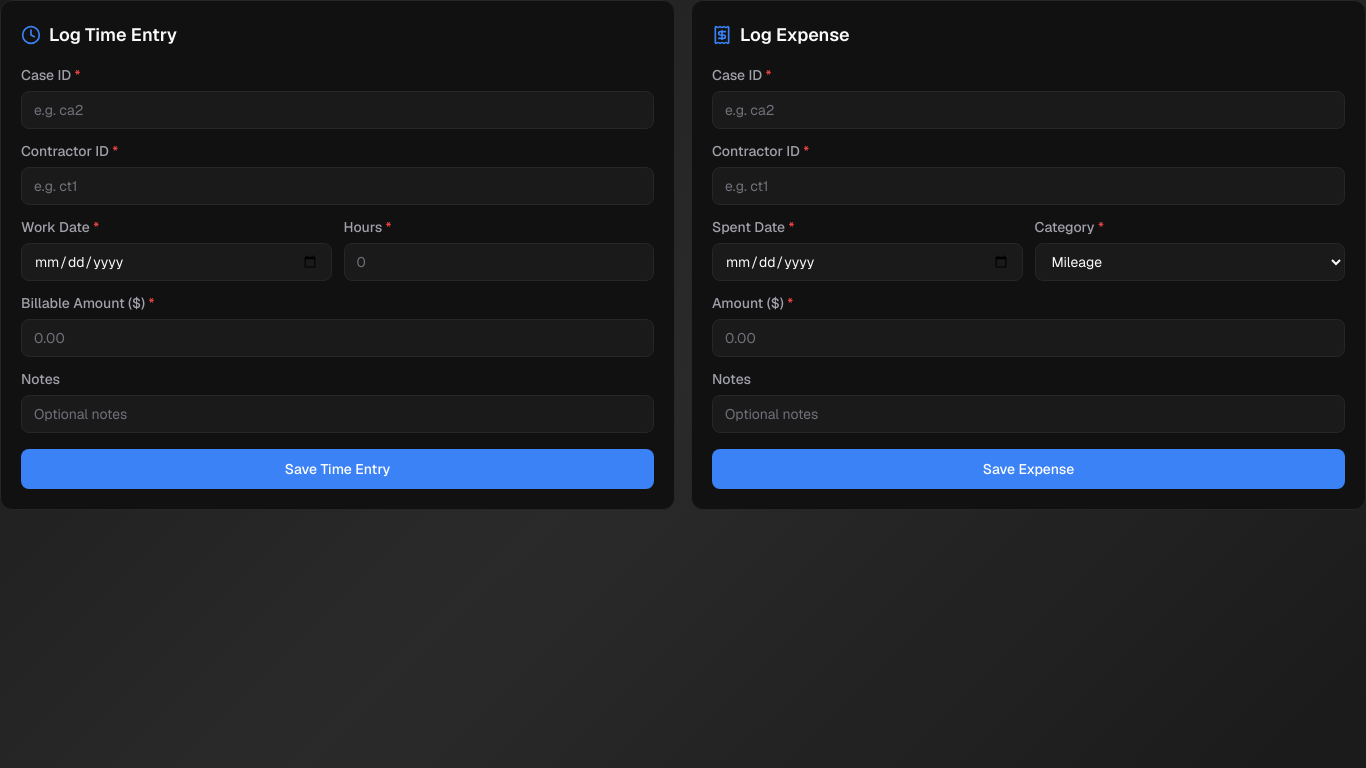
Test: TeamEntryForms › shows success message on successful time entry submission
Type "ca1" into the field with id "te-caseId" at (338, 110), box [21, 91, 654, 129]
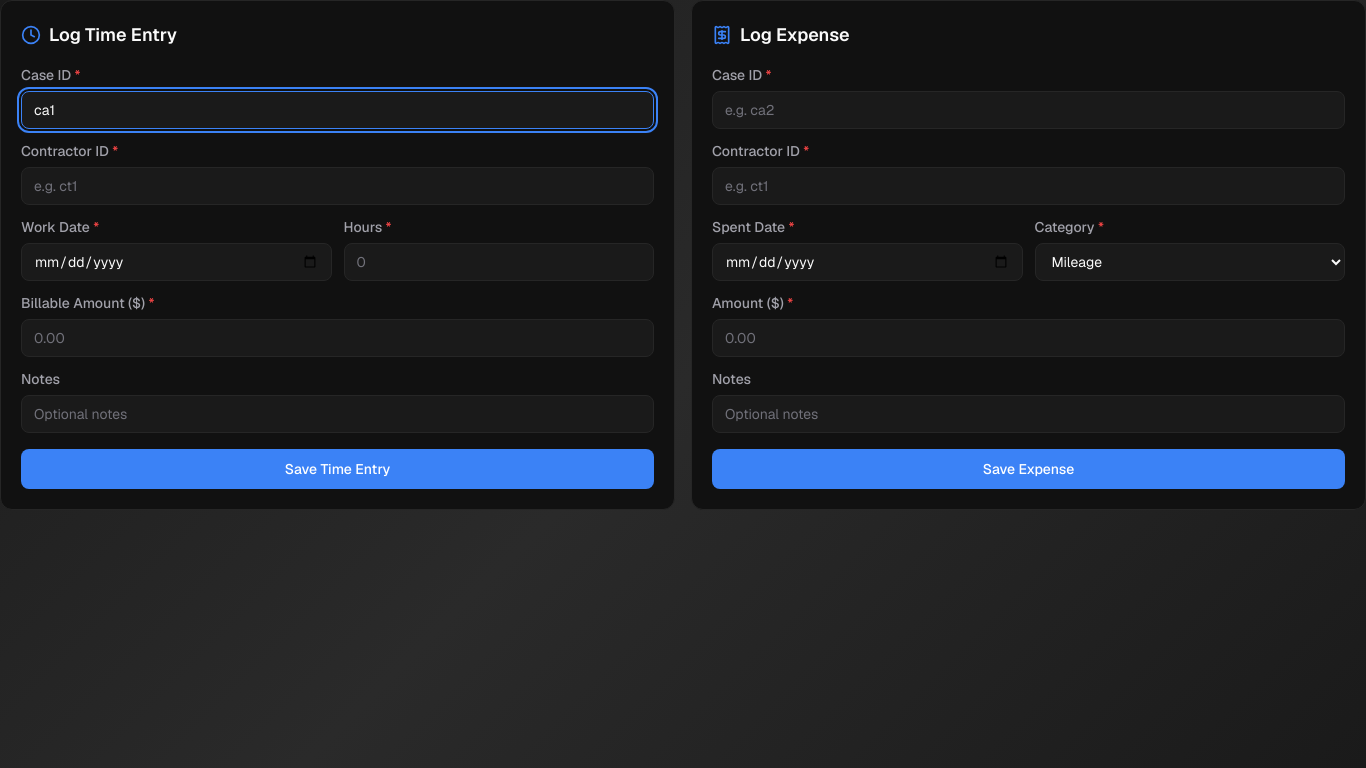
Type "ct1" into the field with id "te-contractorId" at (338, 186), box [21, 167, 654, 205]
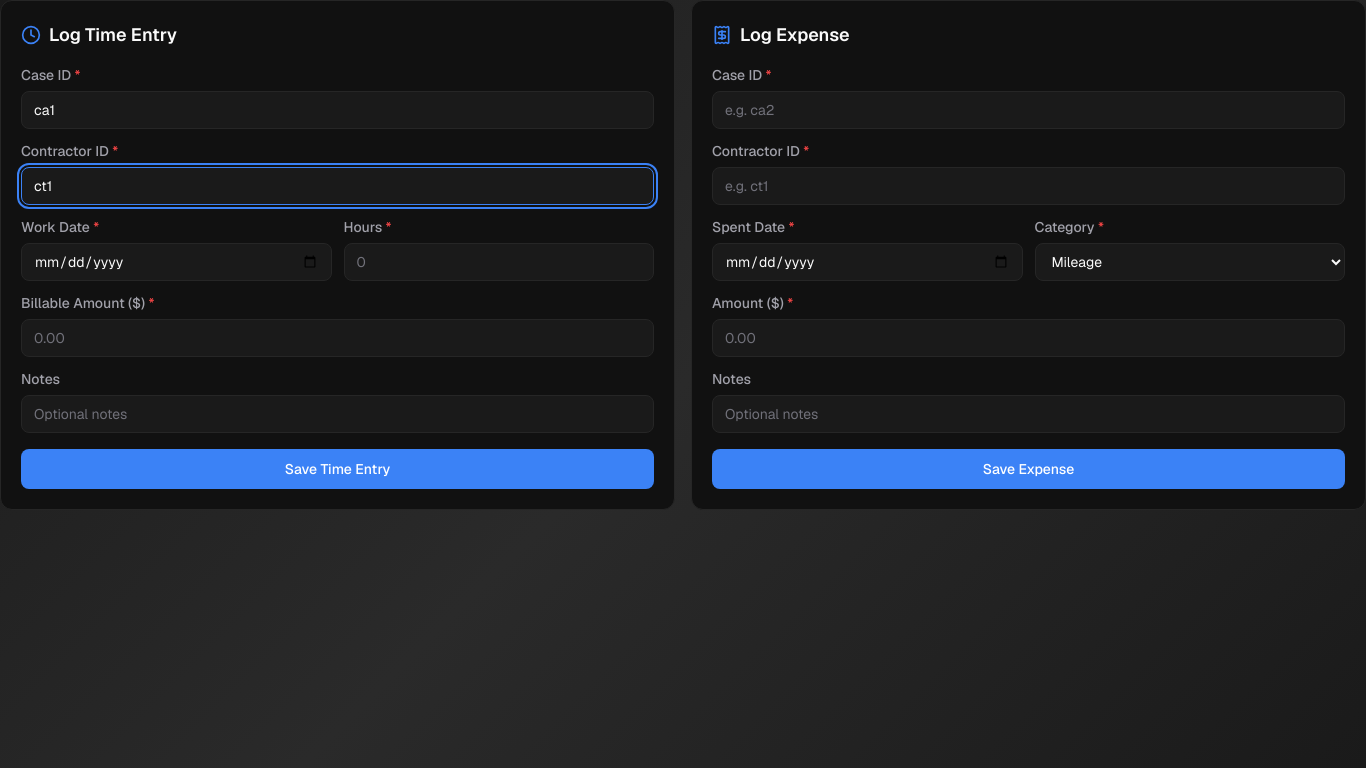
Type "2024-01-15" into the date field labelled "Work Date *" at (176, 262), box [21, 243, 332, 281]
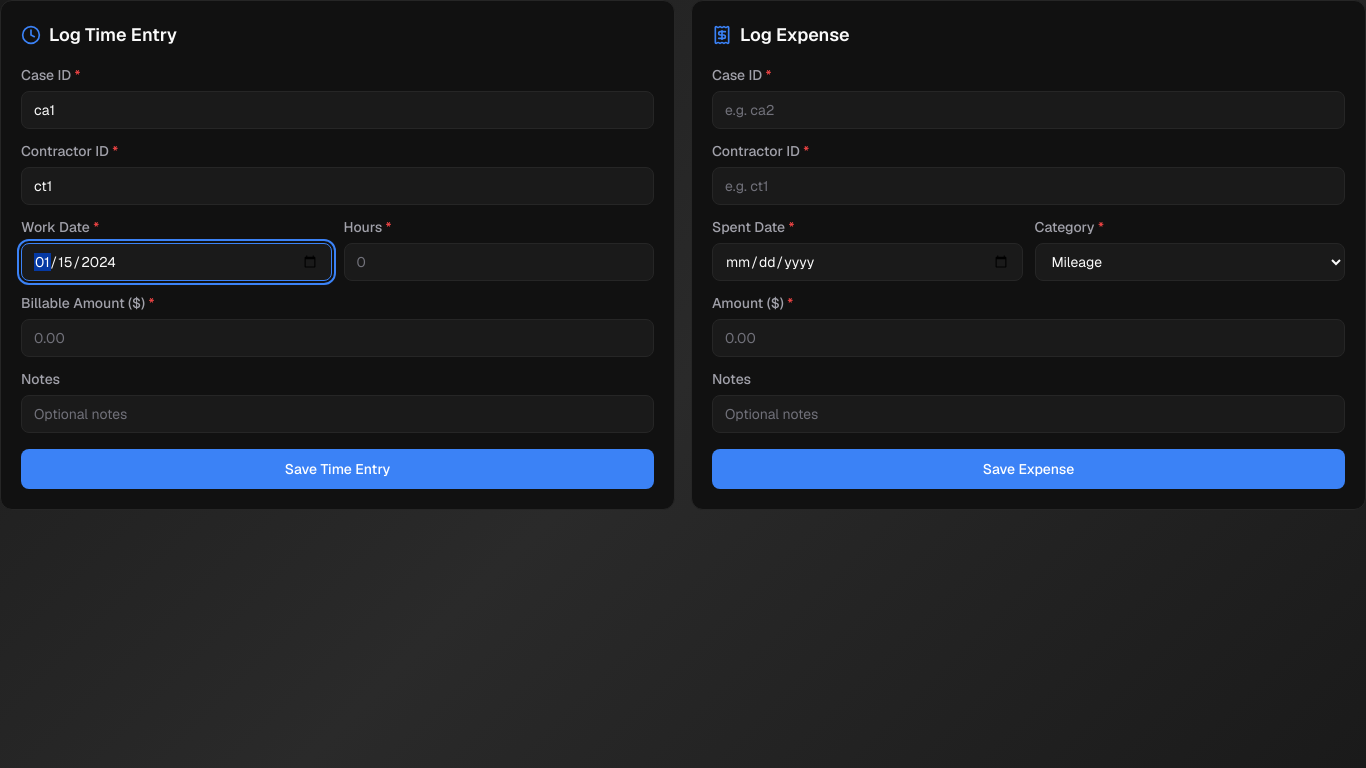
Type "2" into the number field with id "te-hours" at (499, 262), box [344, 243, 654, 281]
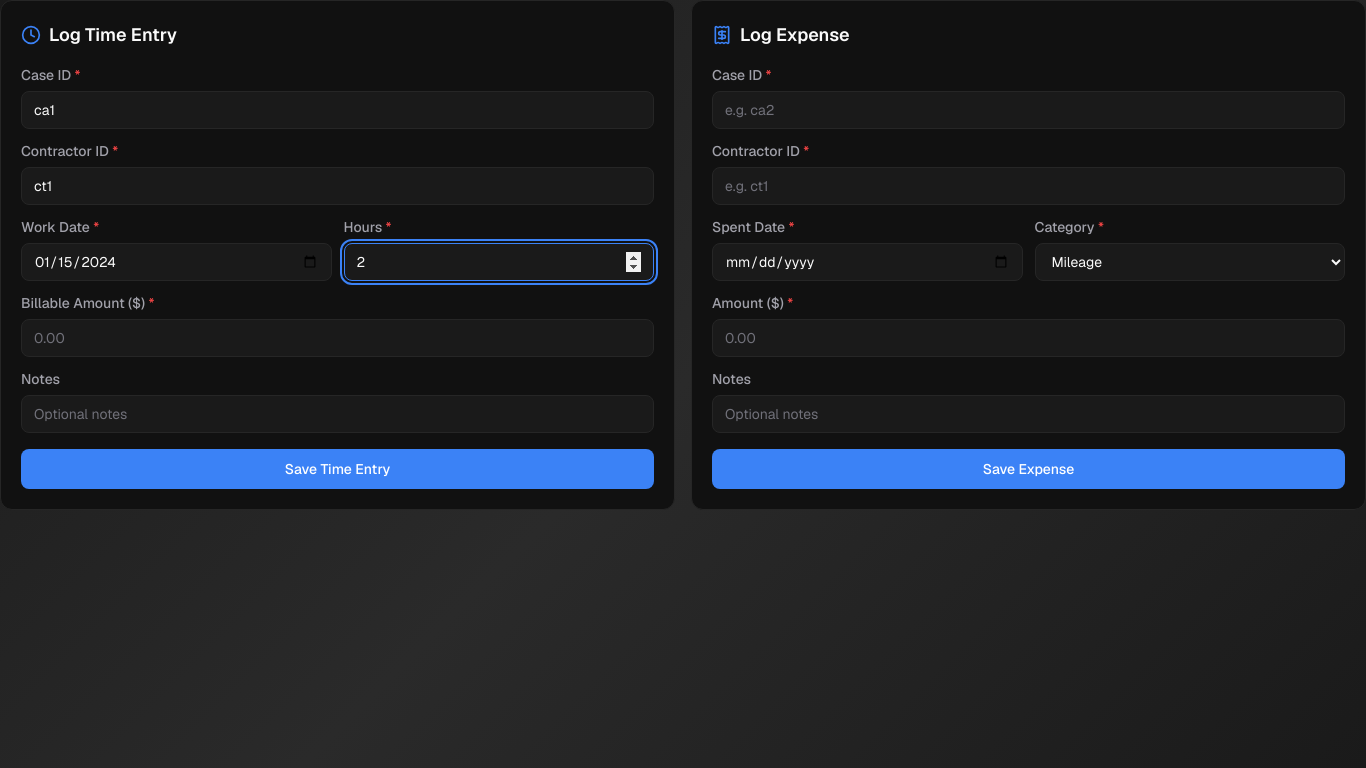
Type "250" into the number field with id "te-billable" at (338, 338), box [21, 319, 654, 357]
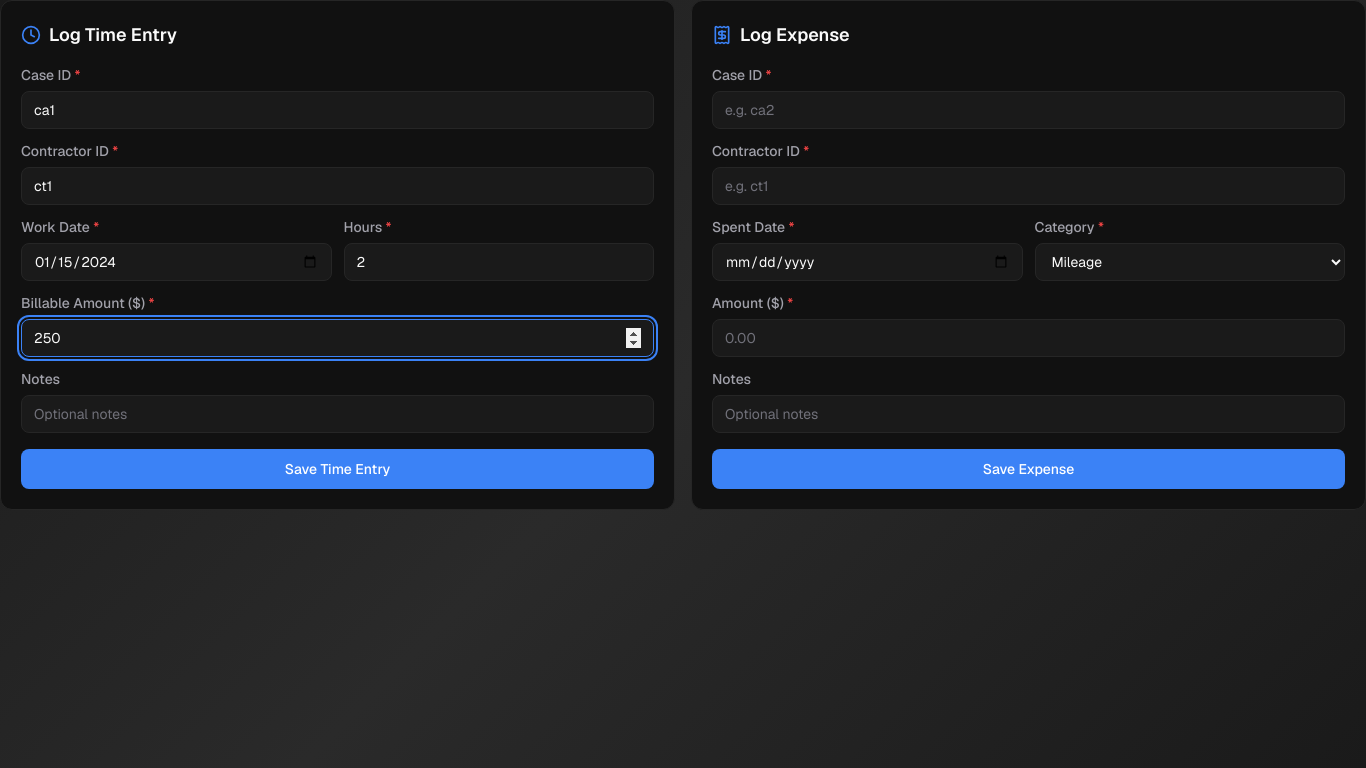
Click the button "Save Time Entry" at (338, 469), box [21, 449, 654, 489]
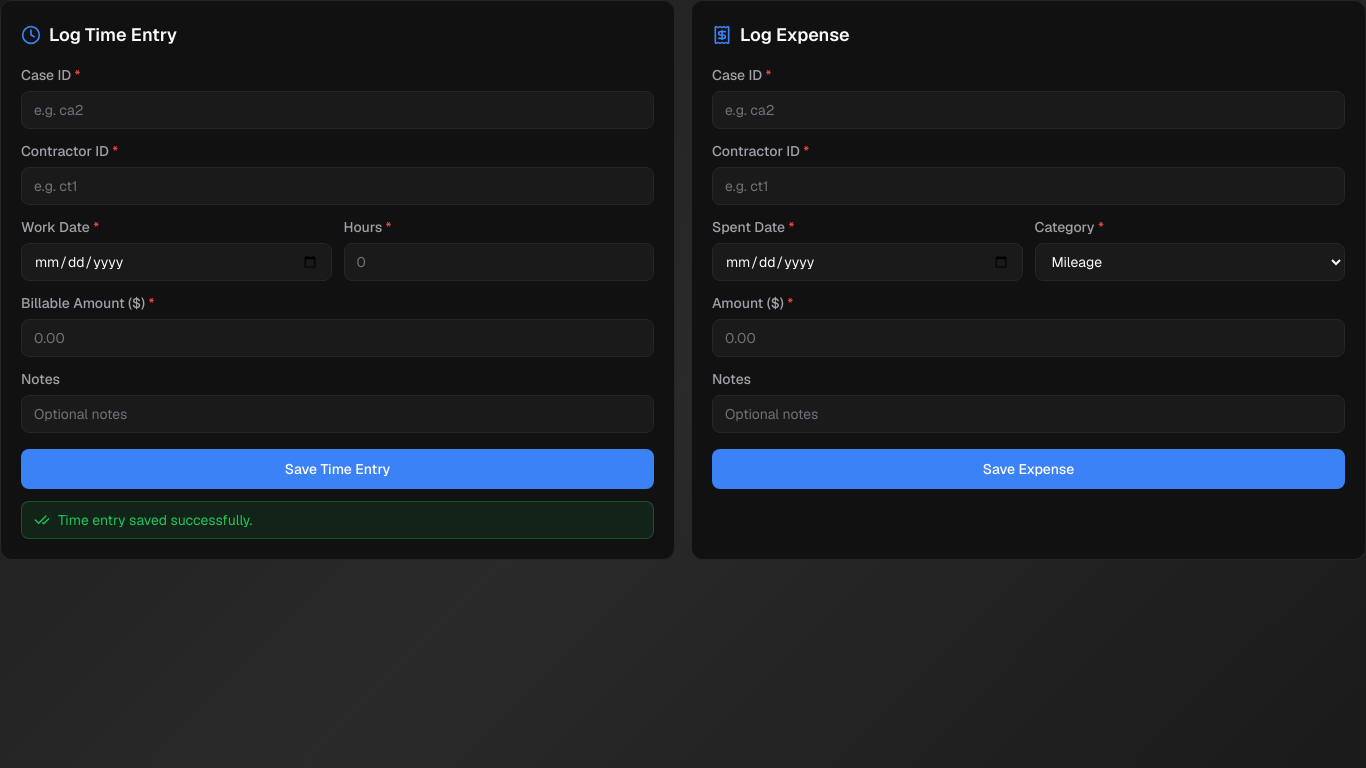
Check: the text "Time entry saved successfully." is shown, box [21, 501, 654, 539]
